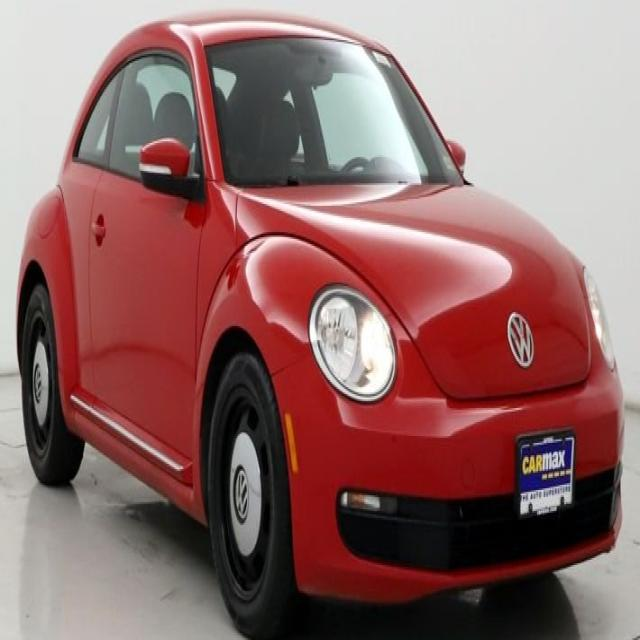red: (18, 0, 624, 603)
